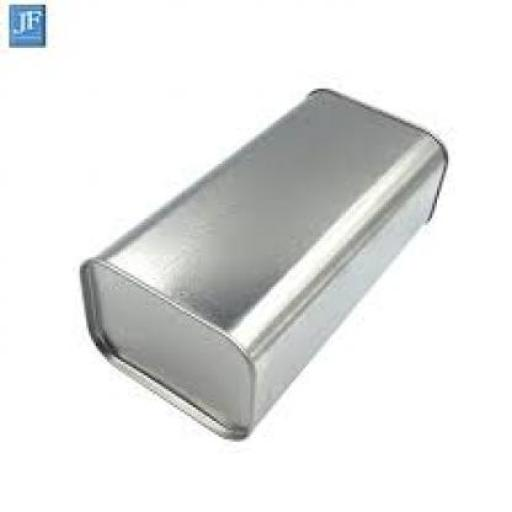metal: (77, 86, 446, 437)
